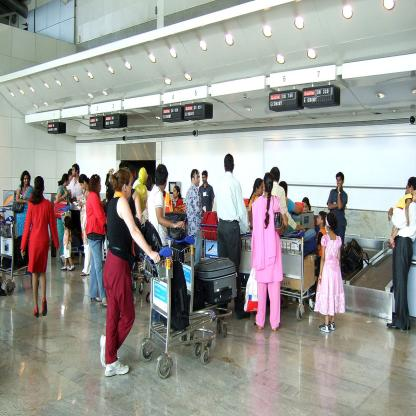airport-trolley: (139, 245, 214, 379), (163, 233, 232, 338), (275, 227, 318, 320), (0, 214, 33, 300)
